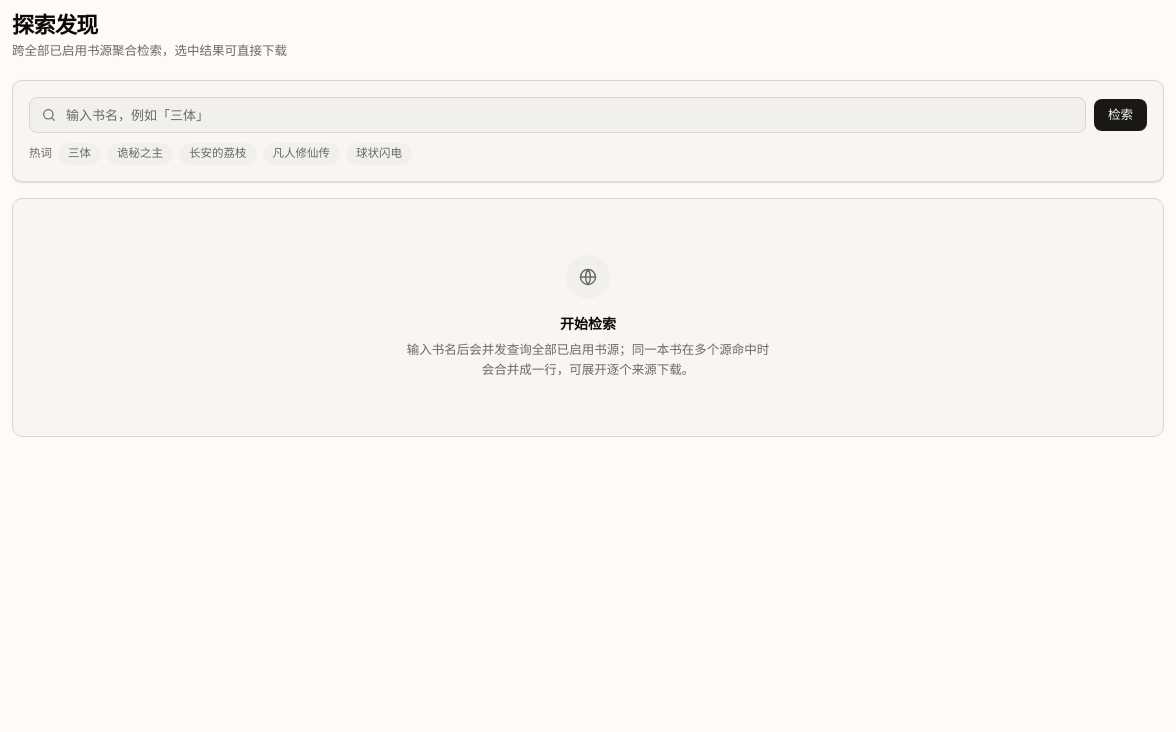
ExploreView · 来源字段（第 71 期修掉的老 bug） › 来源徽章显示源名（不是空白）
The width and height of the screenshot is (1176, 732).
Type "三体" into the field named "搜索书名" at (558, 115), box [29, 97, 1086, 133]
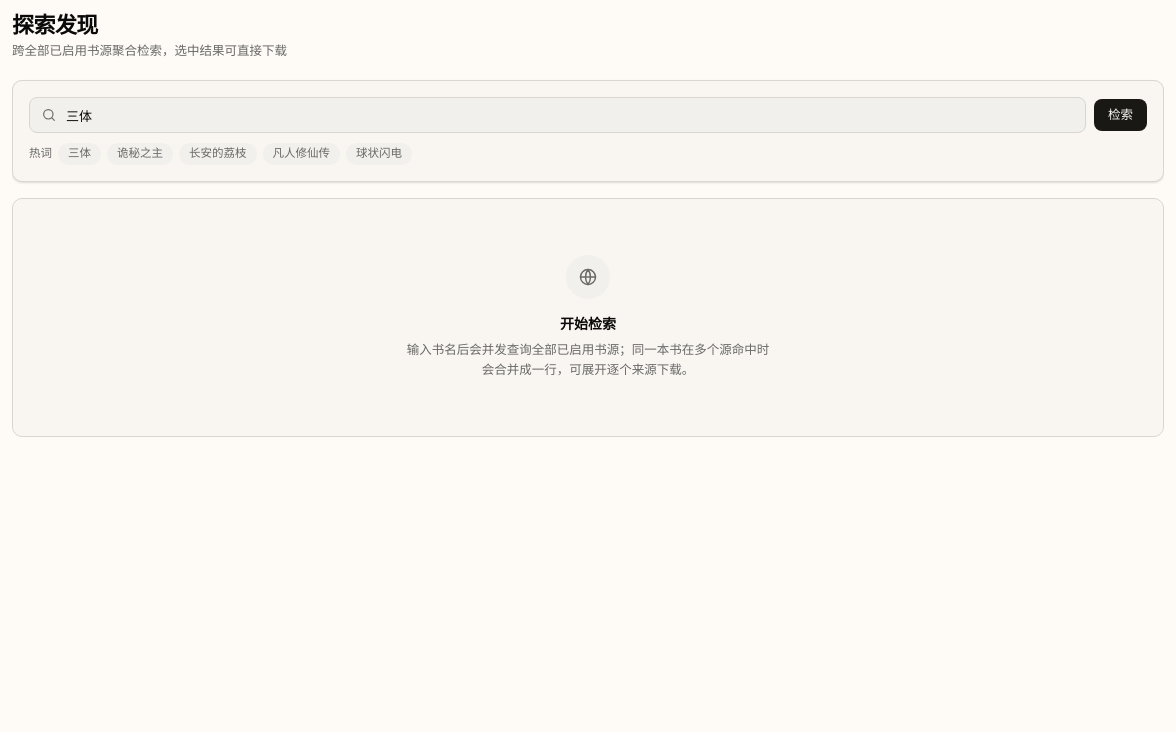
Click the button "检索" at (1120, 115), box [1094, 99, 1147, 131]
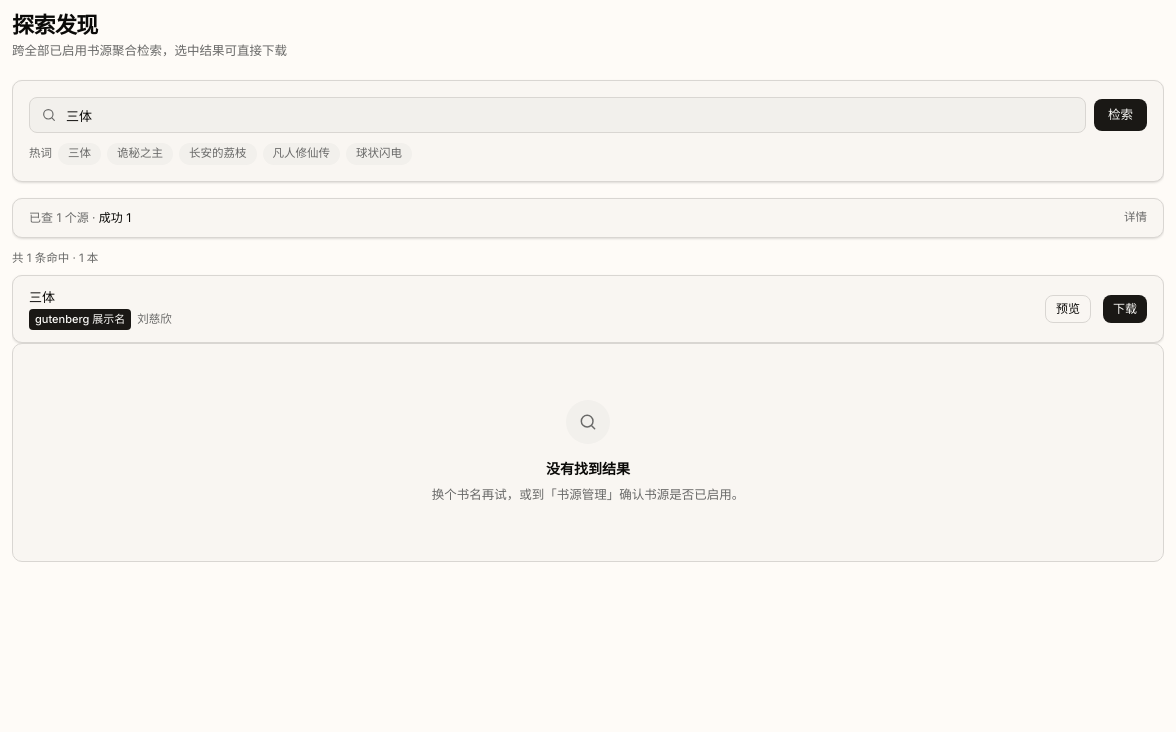
Now the text "gutenberg 展示名" is shown, box [29, 309, 131, 330]
